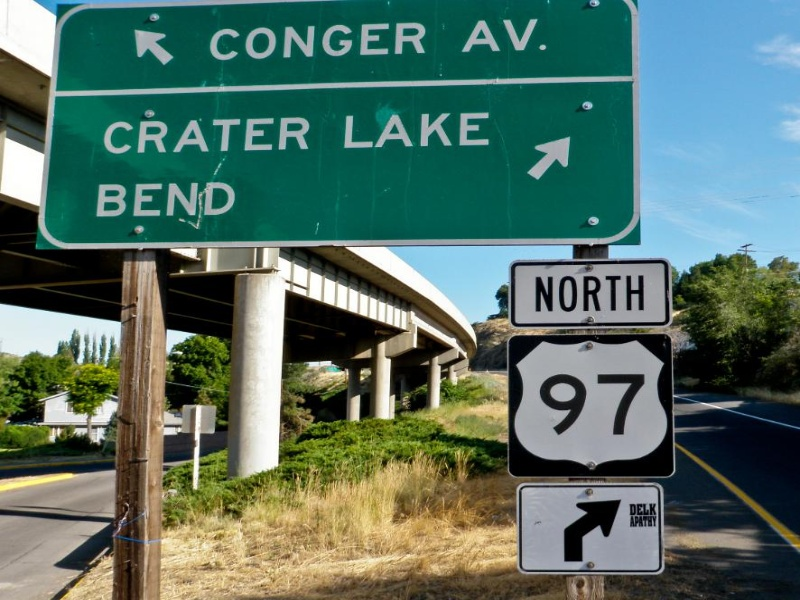left_direction: (132, 25, 180, 72)
right_direction: (520, 130, 577, 184)
right_turn_ahead: (556, 496, 625, 566)
